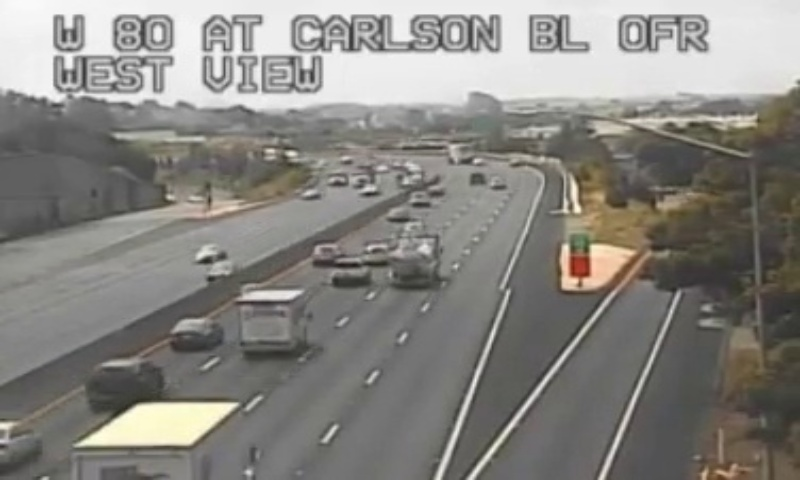car: (87, 359, 163, 407), (170, 318, 221, 349), (359, 240, 393, 267), (329, 258, 365, 283), (310, 243, 340, 265)
small-truck: (72, 398, 251, 480), (234, 288, 306, 355)
tank-truck: (389, 236, 440, 286)
